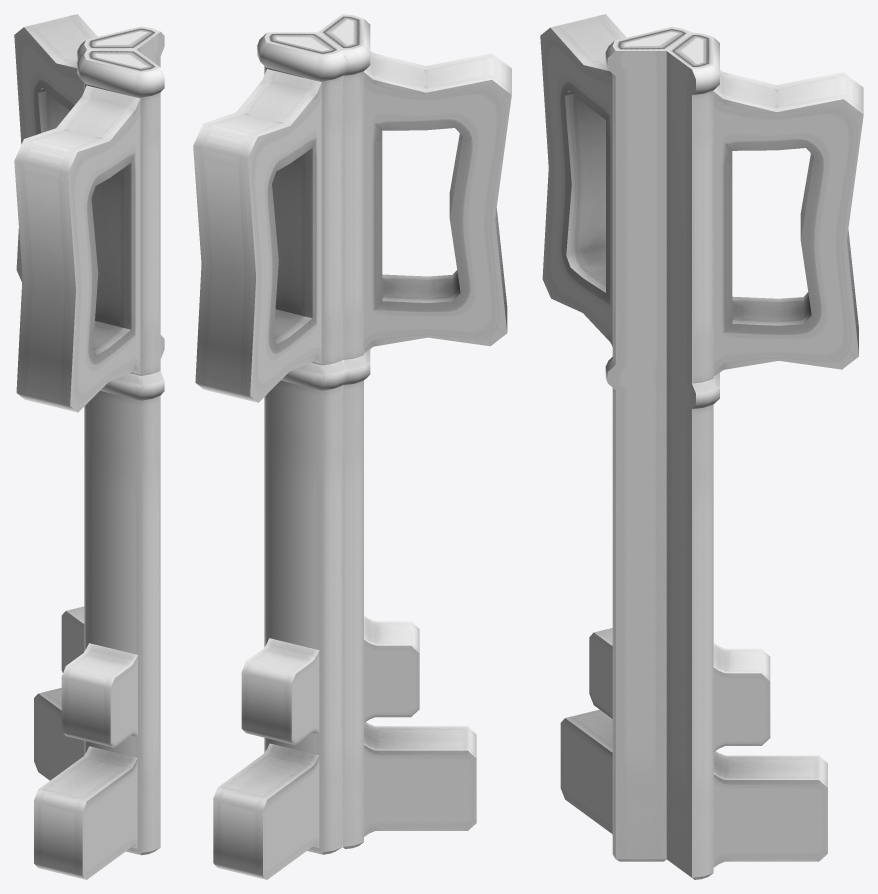
Rendered from 228_a_two_part_key.fbx.
3 views of the same model, side by side, from view 1: azimuth 30°, elevation 25°; view 2: azimuth 150°, elevation 25°; view 3: azimuth 270°, elevation 25° (orthographic). The views are drawn at different scales.
Visible parts, largest first — view 1: 228_a_two_part_key; view 2: 228_a_two_part_key; view 3: 228_a_two_part_key.
Part boxes in pixels (box(x1,y1,x2,y2)): 228_a_two_part_key: box(14, 14, 164, 879); 228_a_two_part_key: box(193, 14, 511, 879); 228_a_two_part_key: box(540, 14, 863, 879).
Size of the model in its own units: 7.96 by 30.01 by 10.82.
